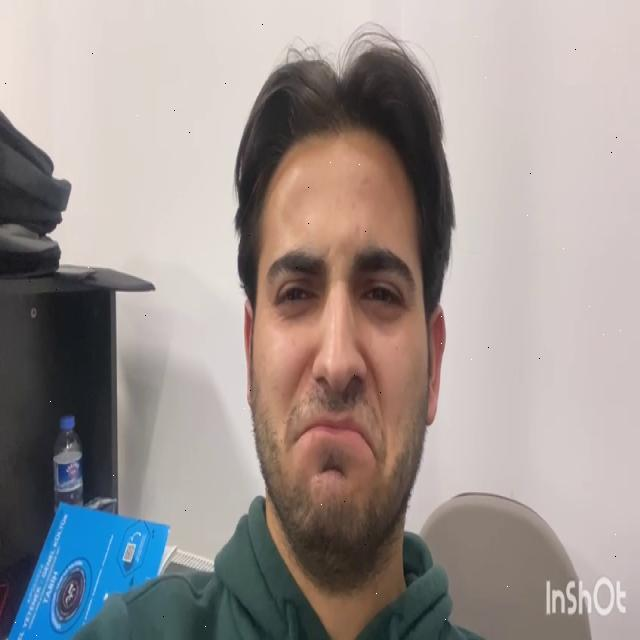sad: (248, 143, 437, 545)
